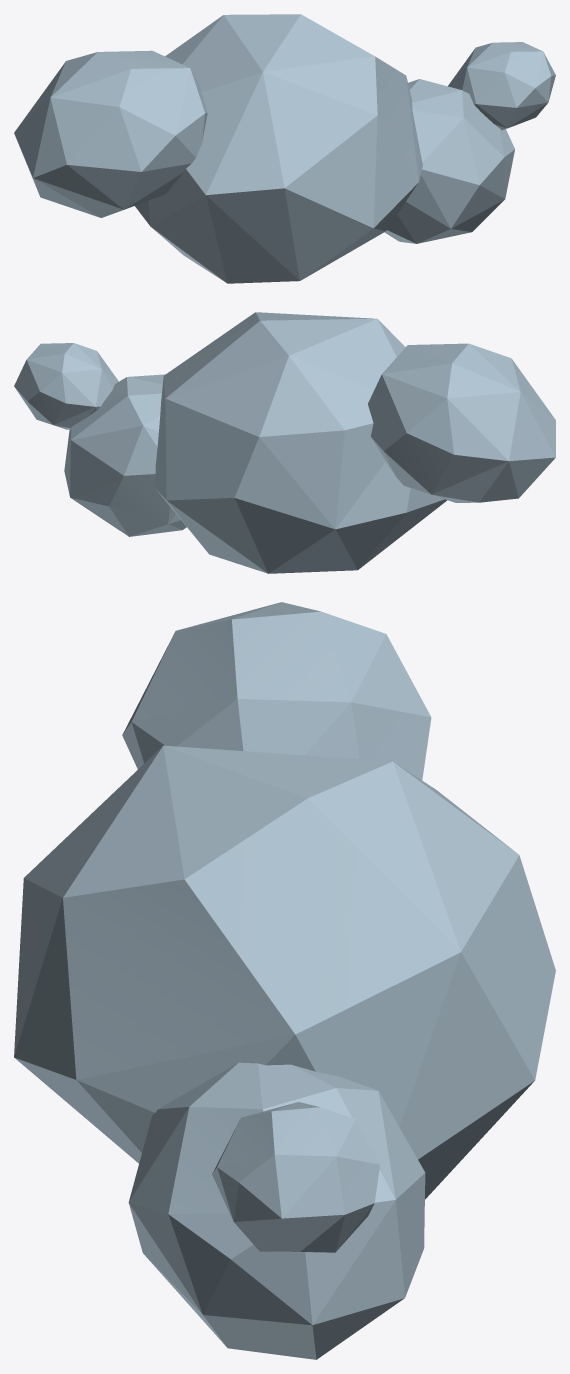
Rendered from small_cloud_3.fbx.
The picture shows the model from 3 angles, top to bottom: view 1: azimuth 30°, elevation 25°; view 2: azimuth 150°, elevation 25°; view 3: azimuth 270°, elevation 25°; orthographic projection. The views are drawn at different scales.
Visible parts, largest first — view 1: cloud_3; view 2: cloud_3; view 3: cloud_3.
Boxes of the visible parts, box(x1,y1,x2,y2) form: cloud_3: box(14, 14, 555, 283); cloud_3: box(14, 312, 555, 573); cloud_3: box(14, 602, 555, 1359).
Bounding box in the file's own units: 409 × 184 × 203.
